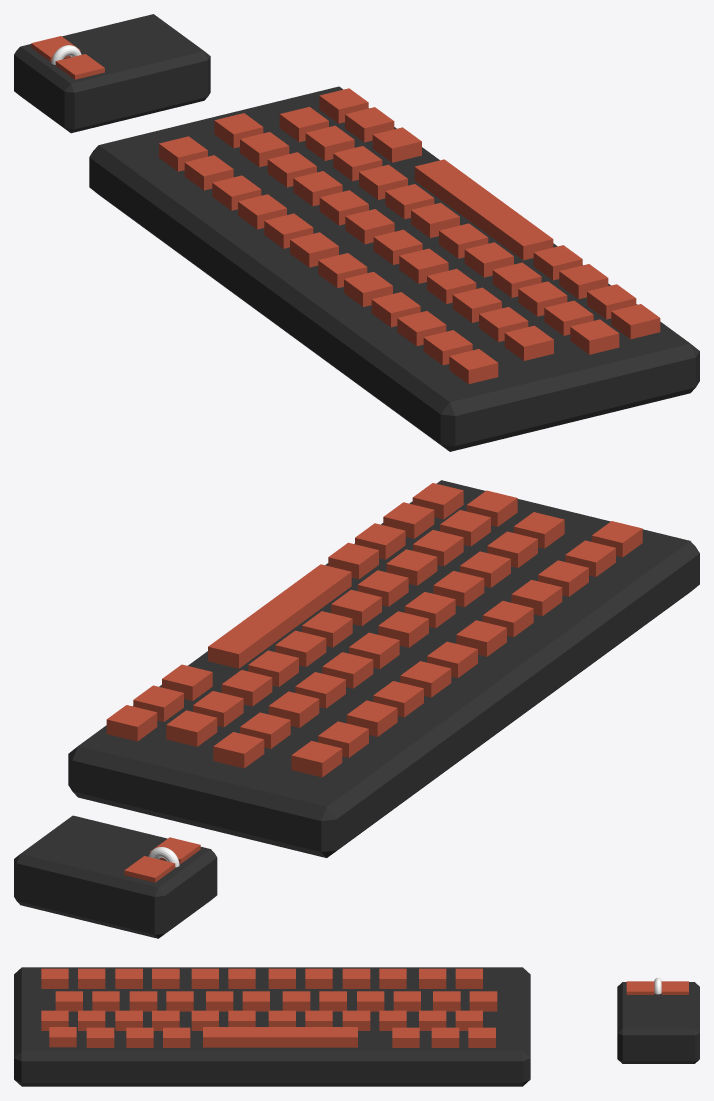
Rendered from keyboard.obj.
The picture shows the model from 3 angles, top to bottom: view 1: azimuth 30°, elevation 25°; view 2: azimuth 150°, elevation 25°; view 3: azimuth 270°, elevation 25°; orthographic projection. The views are drawn at different scales.
Parts seen in each view (by area): view 1: Cube, Cube.45, Cube.39, Cube.44, Cube.25, Cube.24, Cube.40, Cube.1, Cube.13, Cube.12, Cube.8, Cube.32 (+35 smaller); view 2: Cube, Cube.45, Cube.39, Cube.37, Cube.18, Cube.31, Cube.7, Cube.19, Cube.30, Cube.43, Cube.27, Cube.15 (+35 smaller); view 3: Cube, Cube.45, Cube.39, Cube.43, Cube.38, Cube.9, Cube.18, Cube.13, Cube.21, Cube.44, Cube.42, Cube.40 (+36 smaller).
Part boxes in pixels (<box>): Cube: <box>89,86,699,451</box>; Cube.45: <box>14,14,210,133</box>; Cube.39: <box>414,159,553,260</box>; Cube.44: <box>611,304,660,339</box>; Cube.25: <box>570,319,619,354</box>; Cube.24: <box>504,325,553,360</box>; Cube.40: <box>372,127,421,162</box>; Cube.1: <box>449,349,498,384</box>; Cube.13: <box>345,209,394,244</box>; Cube.12: <box>290,232,338,267</box>; Cube.8: <box>184,155,233,190</box>; Cube.32: <box>305,125,354,160</box>; Cube: <box>68,480,699,857</box>; Cube.45: <box>14,815,217,938</box>; Cube.39: <box>208,564,351,668</box>; Cube.37: <box>106,705,157,741</box>; Cube.18: <box>213,732,264,768</box>; Cube.31: <box>166,710,217,746</box>; Cube.7: <box>291,741,342,777</box>; Cube.19: <box>378,611,428,647</box>; Cube.30: <box>331,589,381,626</box>; Cube.43: <box>383,502,434,538</box>; Cube.27: <box>386,549,437,585</box>; Cube.15: <box>268,691,319,727</box>; Cube: <box>14,967,530,1086</box>; Cube.45: <box>617,982,699,1063</box>; Cube.39: <box>203,1027,357,1047</box>; Cube.43: <box>86,1027,114,1047</box>; Cube.38: <box>431,1027,459,1047</box>; Cube.9: <box>342,968,370,988</box>; Cube.18: <box>469,991,497,1011</box>; Cube.13: <box>282,991,310,1011</box>; Cube.21: <box>129,991,157,1011</box>; Cube.44: <box>49,1027,76,1047</box>; Cube.42: <box>126,1027,153,1047</box>; Cube.40: <box>392,1027,419,1047</box>.
Size of the model in its own units: 82.71 by 19.57 by 266.
